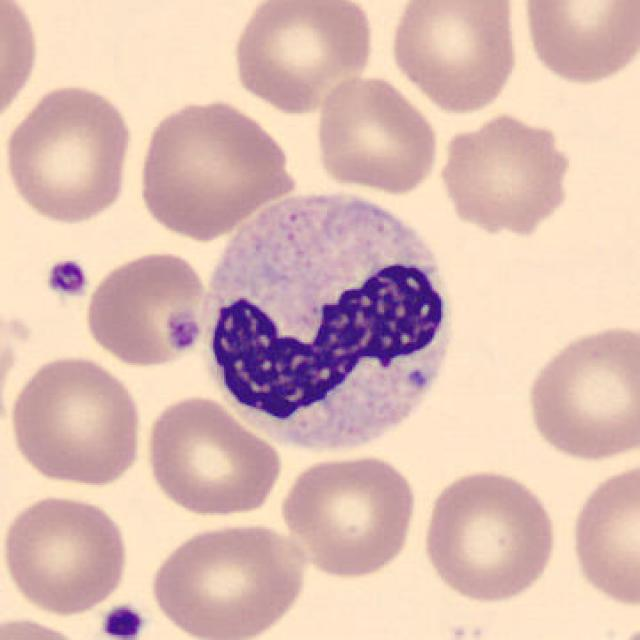Neutrophil: (194, 180, 466, 465)
Platelets: (41, 254, 91, 301), (98, 601, 148, 640), (165, 311, 205, 356)
RBC: (134, 93, 300, 240), (146, 518, 313, 640), (418, 464, 560, 606), (0, 79, 137, 226), (5, 351, 146, 490), (278, 450, 420, 580), (434, 110, 576, 236), (143, 394, 284, 518), (227, 0, 377, 115), (521, 319, 638, 466), (0, 490, 133, 617), (311, 72, 443, 196), (82, 247, 212, 368), (386, 0, 522, 115), (566, 458, 638, 608), (516, 0, 638, 88), (0, 0, 43, 132), (0, 310, 20, 441), (0, 613, 96, 640), (590, 617, 640, 640)
